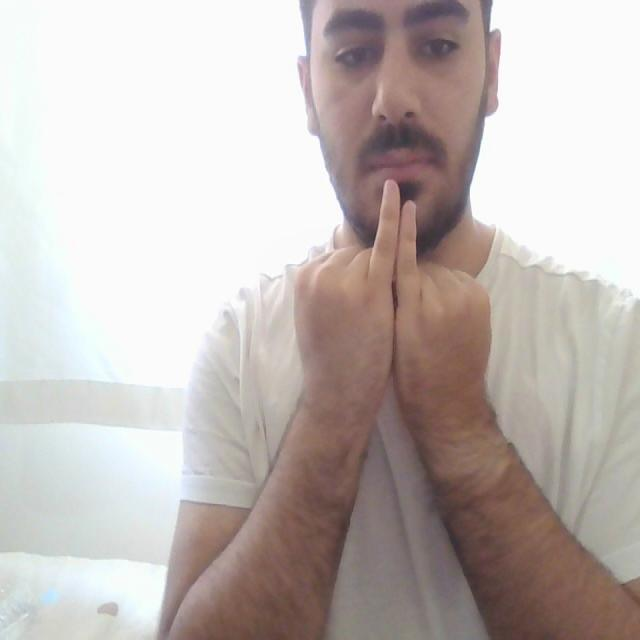Kardes: (284, 176, 498, 420)
